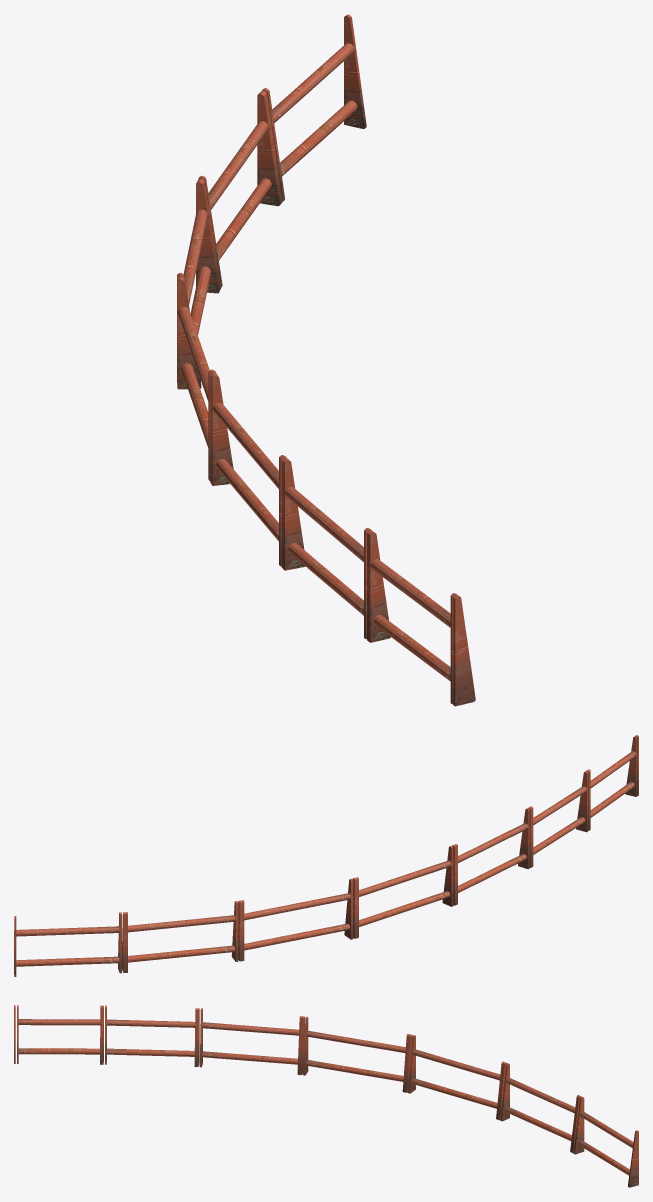
The model's file is bridge1_railing2_curve1_1.fbx.
The picture shows the model from 3 angles, top to bottom: view 1: azimuth 30°, elevation 25°; view 2: azimuth 150°, elevation 25°; view 3: azimuth 270°, elevation 25°; orthographic projection. The views are drawn at different scales.
Visible parts, largest first — view 1: railing.008; view 2: railing.008; view 3: railing.008.
Part boxes in pixels (bbox=[...]): railing.008: bbox=[177, 14, 475, 706]; railing.008: bbox=[14, 735, 638, 976]; railing.008: bbox=[14, 1005, 638, 1187].
Bounding box in the file's own units: 5.04 × 1 × 10.36.
